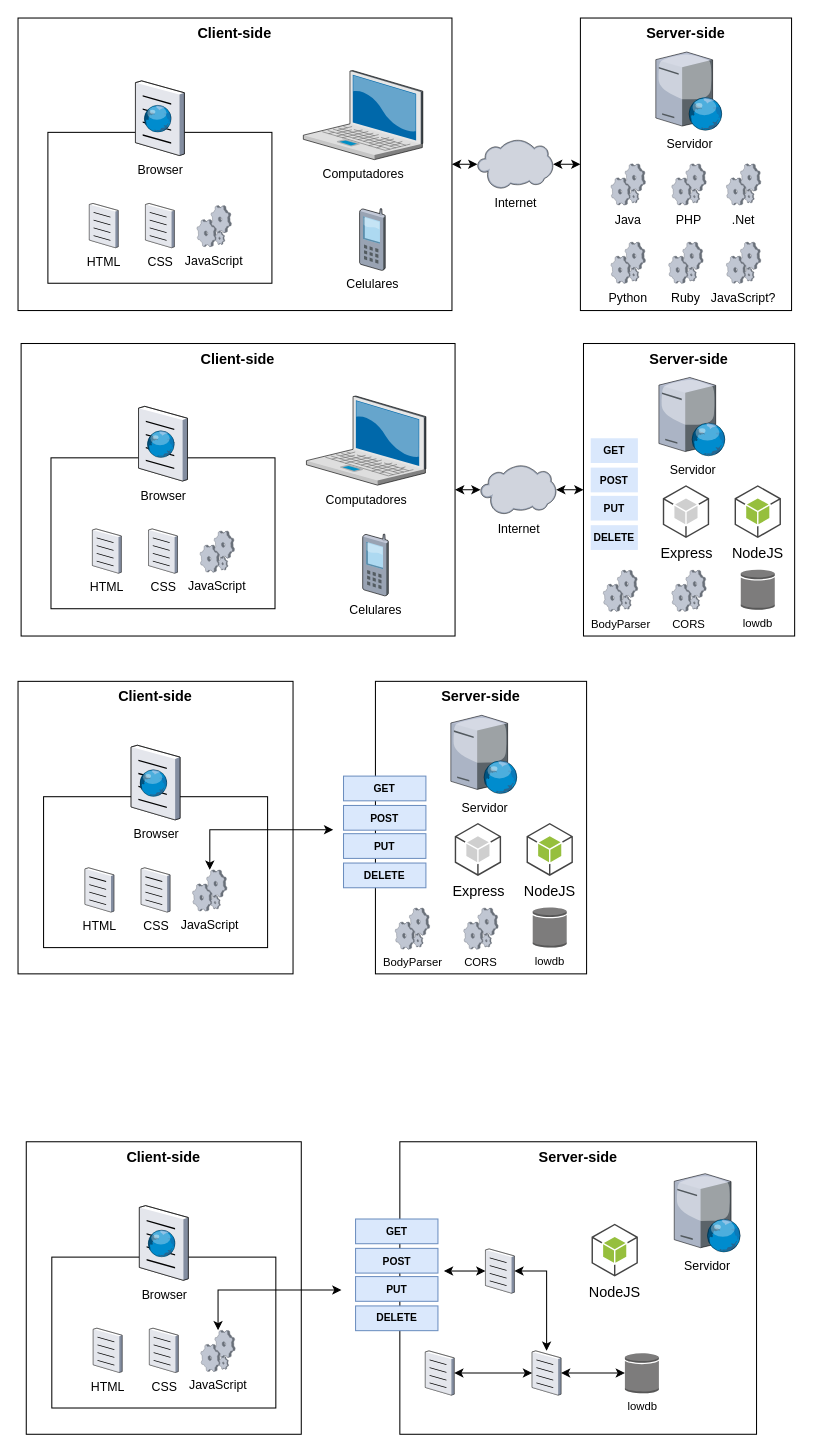
Some shapes in this 813 by 1452 pixel diagram are drawn without their labels. Each missing label, with the centre of its shape:
controllers.js: point 499,1270
infraestrutura.js: point 546,1372
models.js: point 439,1372
